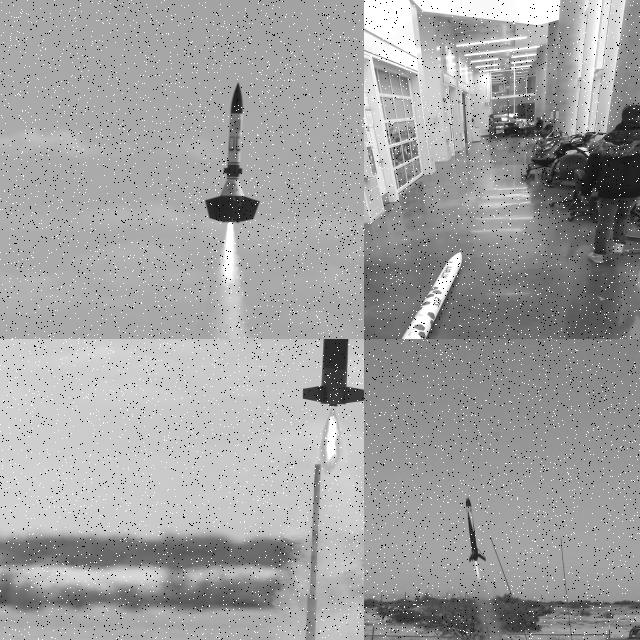Rocket: (205, 82, 261, 224), (401, 251, 463, 339), (300, 339, 364, 408), (464, 496, 486, 562)
